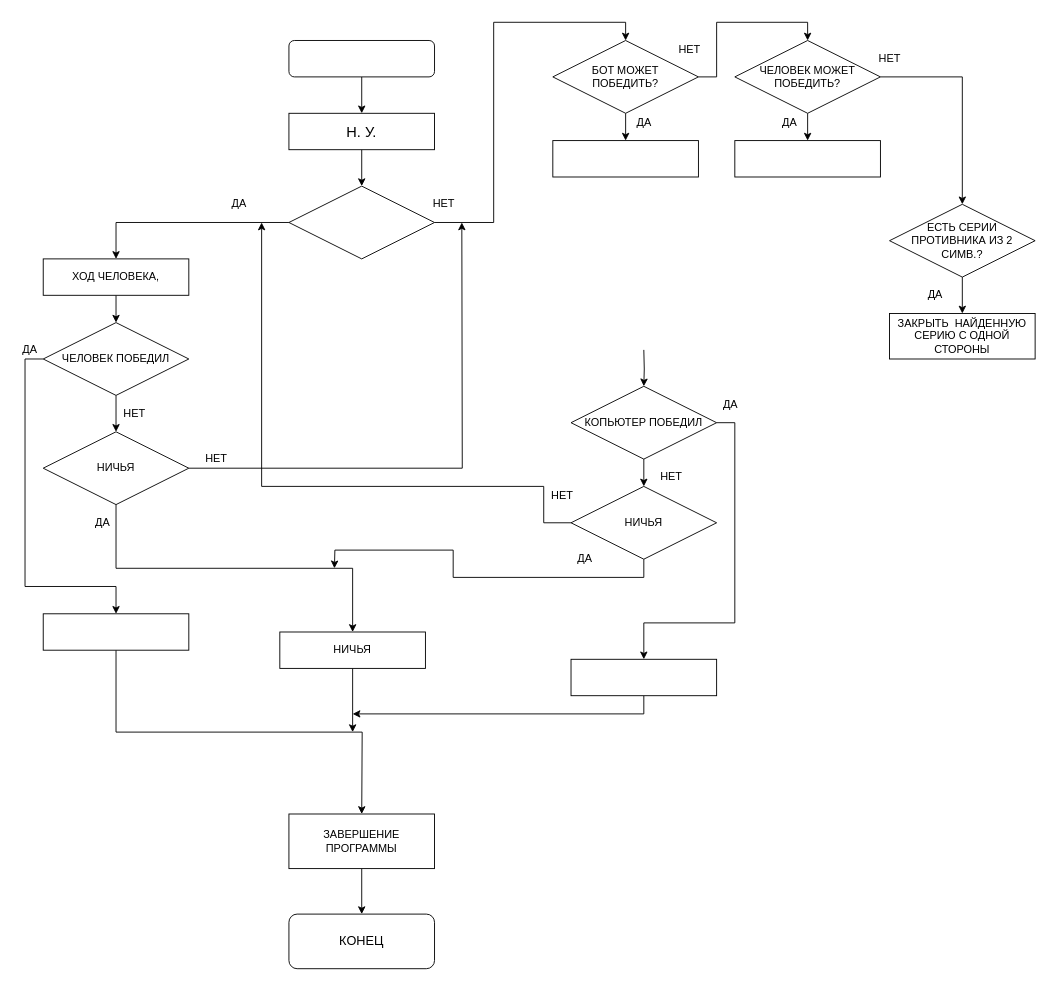
Image size: 1051x985. Some labels were removed from this diagram. Here are the shapes that lost their labels. From the top down, the centre of each, then its label:
the point at 361,58: НАЧАЛО
the point at 625,158: СДЕЛАТЬ ПОБЕДНЫЙ ХОД
the point at 807,158: ЗАКРЫТЬ ПОБЕДНЫЙ ХОД ЧЕЛОВЕКА
the point at 361,222: ЧЕЛОВЕК ПЕРВЫЙ?
the point at 115,631: ПОБЕДА ИГРОКА
the point at 643,677: ПОРАЖЕНИЕ ИГРОКА
